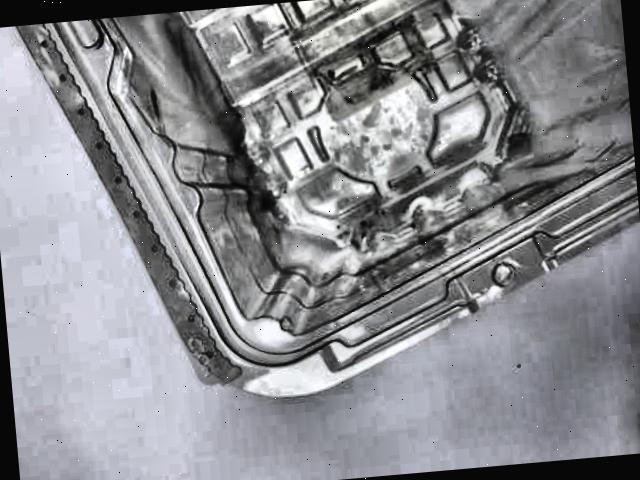Plastic: (0, 0, 640, 436)
